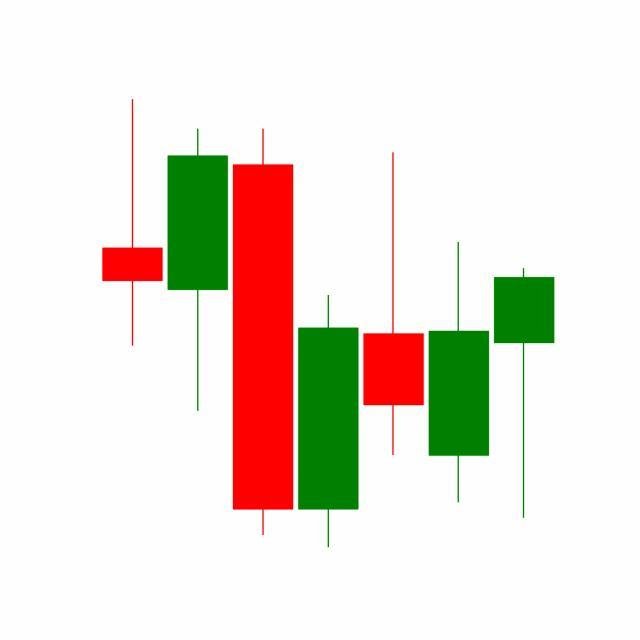Three Outside Up-Down: (360, 149, 556, 522)
